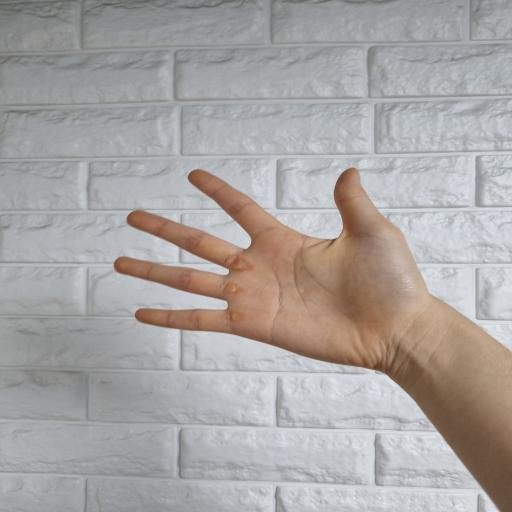Paper: (113, 167, 433, 379)
